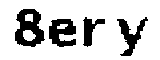8: (11, 6, 45, 50)
e: (48, 16, 79, 50)
r: (82, 15, 107, 49)
y: (113, 12, 150, 60)
